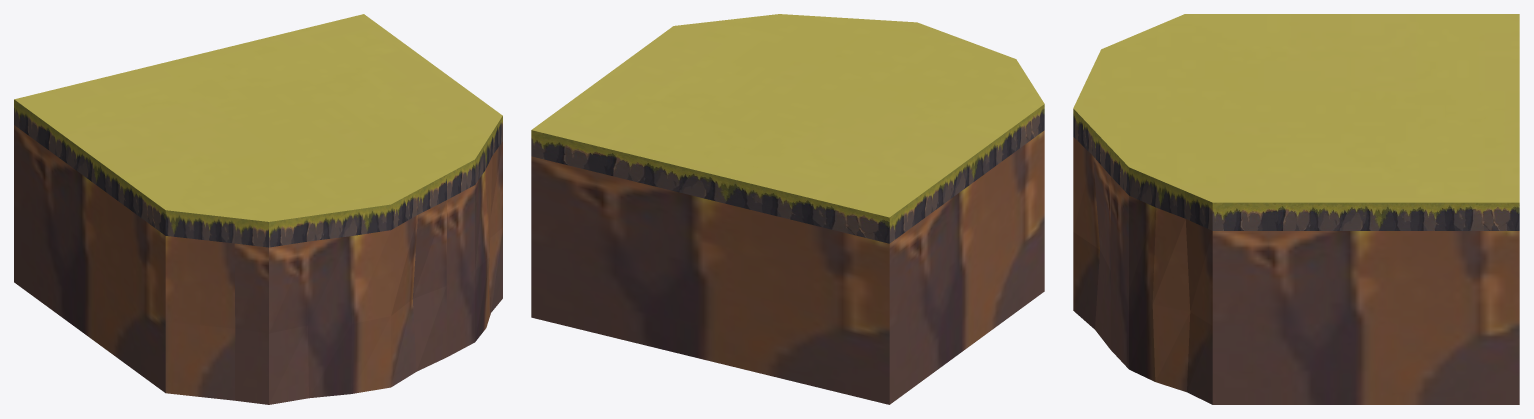
Rendered from SM_RC_Terrain_IslandEdge_16x16_Large.gltf.
The picture shows the model from 3 angles, left to right: view 1: azimuth 30°, elevation 25°; view 2: azimuth 150°, elevation 25°; view 3: azimuth 270°, elevation 25°; orthographic projection. The views are drawn at different scales.
Visible parts, largest first — view 1: SM_RC_Terrain_IslandEdge_16x16_Large; view 2: SM_RC_Terrain_IslandEdge_16x16_Large; view 3: SM_RC_Terrain_IslandEdge_16x16_Large.
Boxes of the visible parts, x1,y1,x2,y2 form: SM_RC_Terrain_IslandEdge_16x16_Large: (14, 14, 502, 404); SM_RC_Terrain_IslandEdge_16x16_Large: (531, 14, 1044, 404); SM_RC_Terrain_IslandEdge_16x16_Large: (1073, 14, 1519, 404).
Bounding box in the file's own units: 16 × 8 × 16.
1 material, 1 textured.
